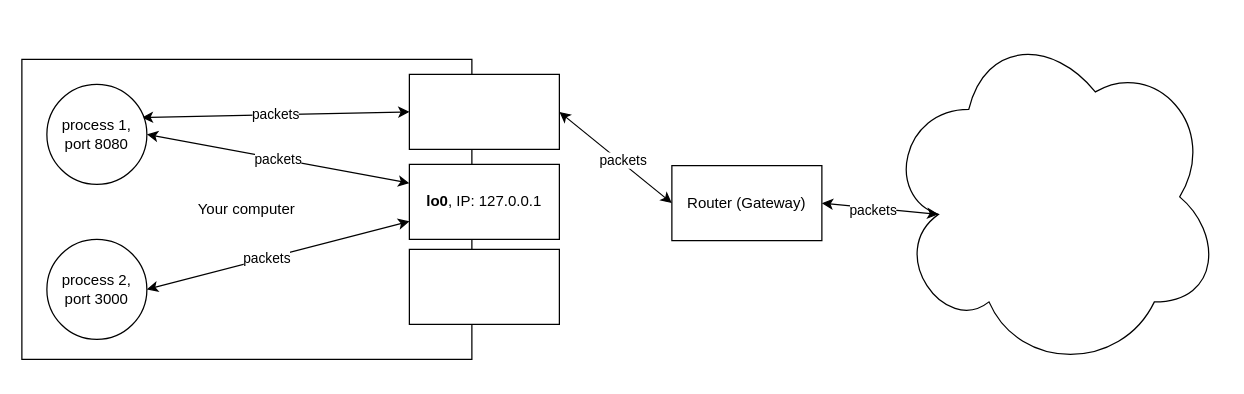
Image size: 1244x394. Some labels were removed from this diagram. The shapes that lost their labels are listed below. From the top down, each one's centre as x and y in pixels, then its label:
At pixel 483 111: "eth0 , IP: 192.168.88.100".
At pixel 1052 196: "Internet".
At pixel 483 286: "NIC2, IP: x.x.x.x".
